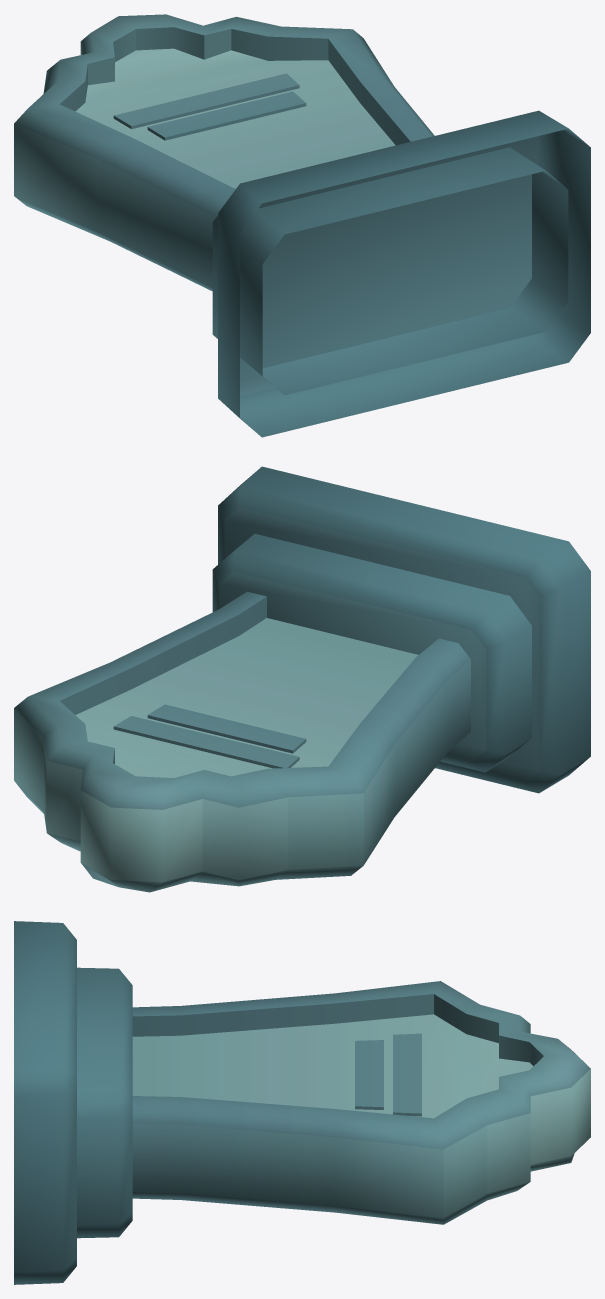
Rendered from Tombstone 01.FBX.
3 views of the same model, one above another, from view 1: azimuth 30°, elevation 25°; view 2: azimuth 150°, elevation 25°; view 3: azimuth 270°, elevation 25° (orthographic). The views are drawn at different scales.
Parts seen in each view (by area): view 1: Tombstone 01; view 2: Tombstone 01; view 3: Tombstone 01.
Boxes of the visible parts, x1,y1,x2,y2 form: Tombstone 01: (14,14,590,437); Tombstone 01: (14,466,590,892); Tombstone 01: (14,921,590,1284).
Size of the model in its own units: 82.75 by 52.73 by 124.
1 material, 1 textured.
